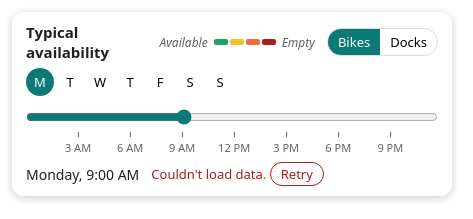
Test: App › a failed load shows Retry, and Retry loads again
This screenshot has width=473, height=219.
Expected: the message shows "Couldn't load data.", [151,165,266,183]
Click the button "Retry": (297, 174) [270,162,324,186]
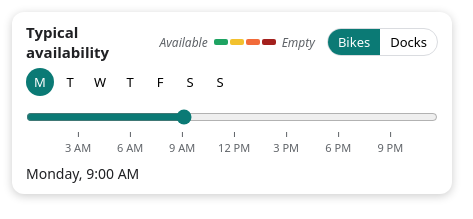
Now the message "Couldn't load data. Retry" is gone
